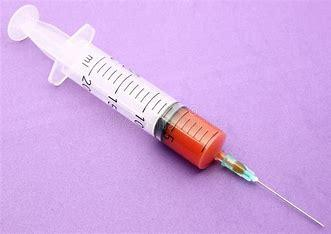Syringe: (6, 3, 328, 230)
